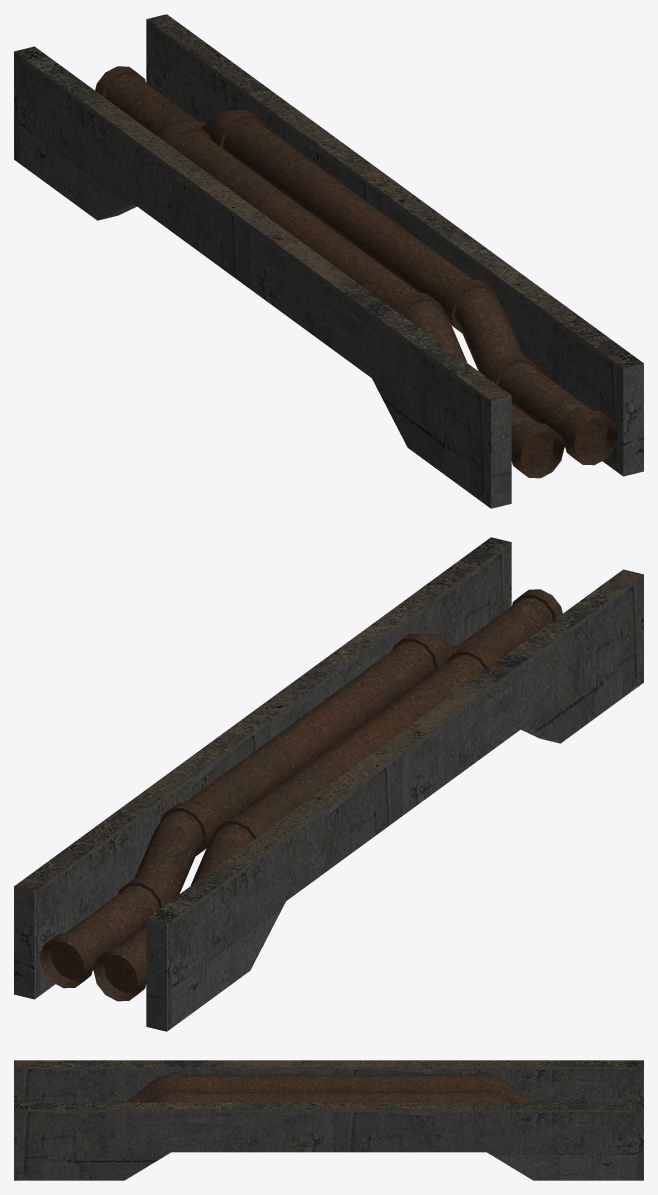
File: beam_rtx_2_pipes.glb
3 renders of one model, top to bottom at view 1: azimuth 30°, elevation 25°; view 2: azimuth 150°, elevation 25°; view 3: azimuth 270°, elevation 25°, orthographic. The views are drawn at different scales.
Visible parts, largest first — view 1: beam_rtx_2_pipes; view 2: beam_rtx_2_pipes; view 3: beam_rtx_2_pipes.
Boxes of the visible parts, x1,y1,x2,y2 form: beam_rtx_2_pipes: (14,14,643,508); beam_rtx_2_pipes: (14,537,643,1031); beam_rtx_2_pipes: (14,1060,643,1180).
Bounding box in the file's own units: 0.74 × 0.515 × 4.
3 materials, 3 textured.
